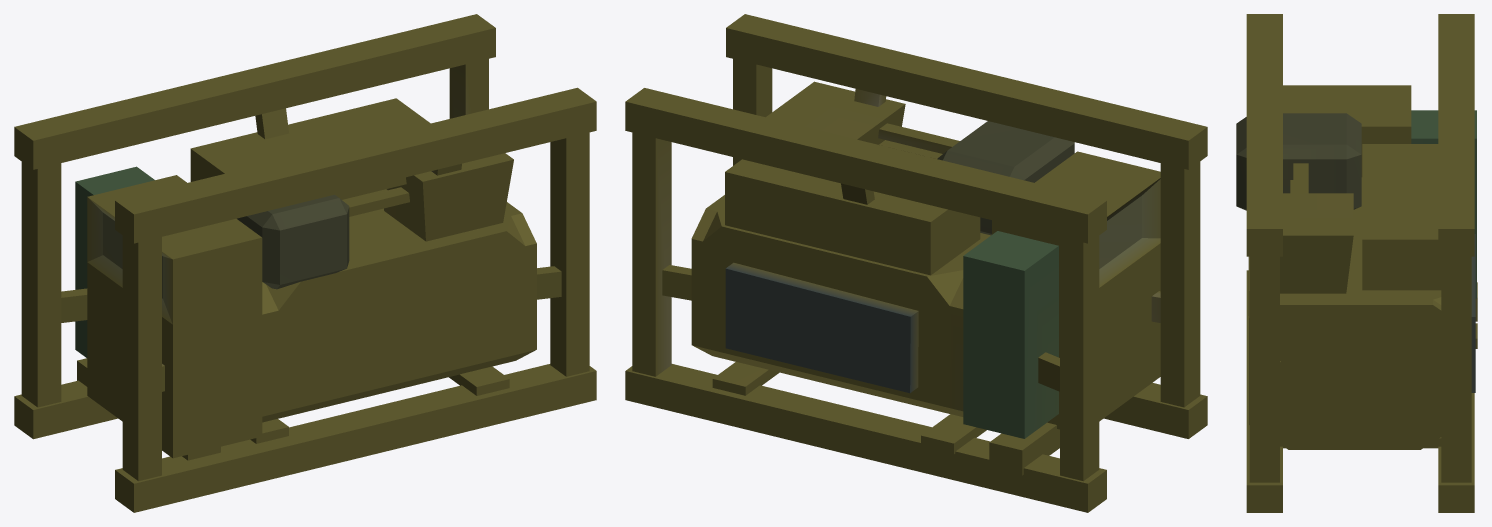
Rendered from GeradorB.fbx.
3 views of the same model, side by side, from view 1: azimuth 30°, elevation 25°; view 2: azimuth 150°, elevation 25°; view 3: azimuth 270°, elevation 25° (orthographic). The views are drawn at different scales.
Parts seen in each view (by area): view 1: LOD_0; view 2: LOD_0; view 3: LOD_0.
Part boxes in pixels (box(x1,y1,x2,y2)): LOD_0: box(14, 14, 596, 512); LOD_0: box(625, 14, 1207, 512); LOD_0: box(1236, 14, 1477, 512).
Size of what is drawn, in the model's own units: 114 by 70.56 by 54.25.
